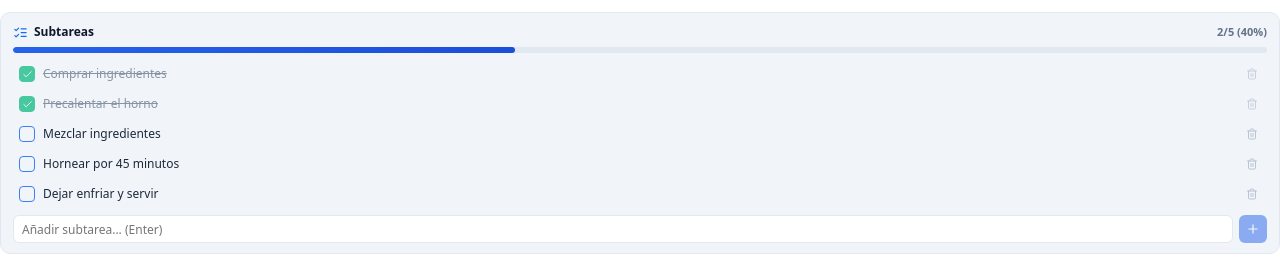
Test: TaskChecklist › actualiza y concilia exitosamente el checkbox cuando el backend responde satisfactoriamente
Step 1. Click the button named "Marcar como completada: Mezclar ingredientes" → (27, 134), box [19,126,35,142]
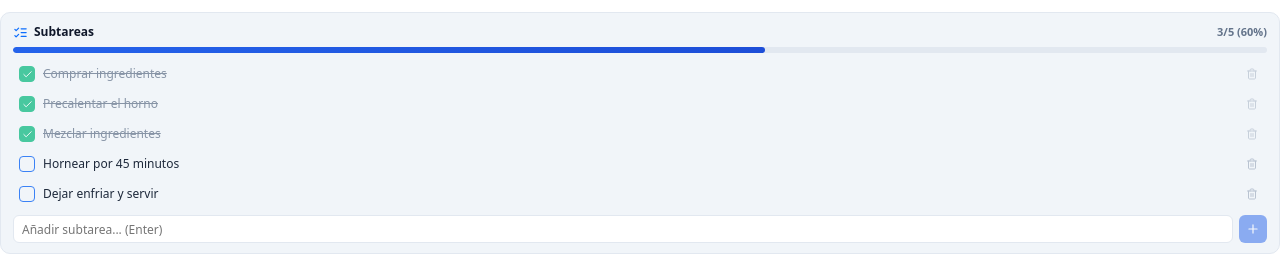
Expected: the text "3/5 (60%)" is shown, [1217,24,1267,40]
